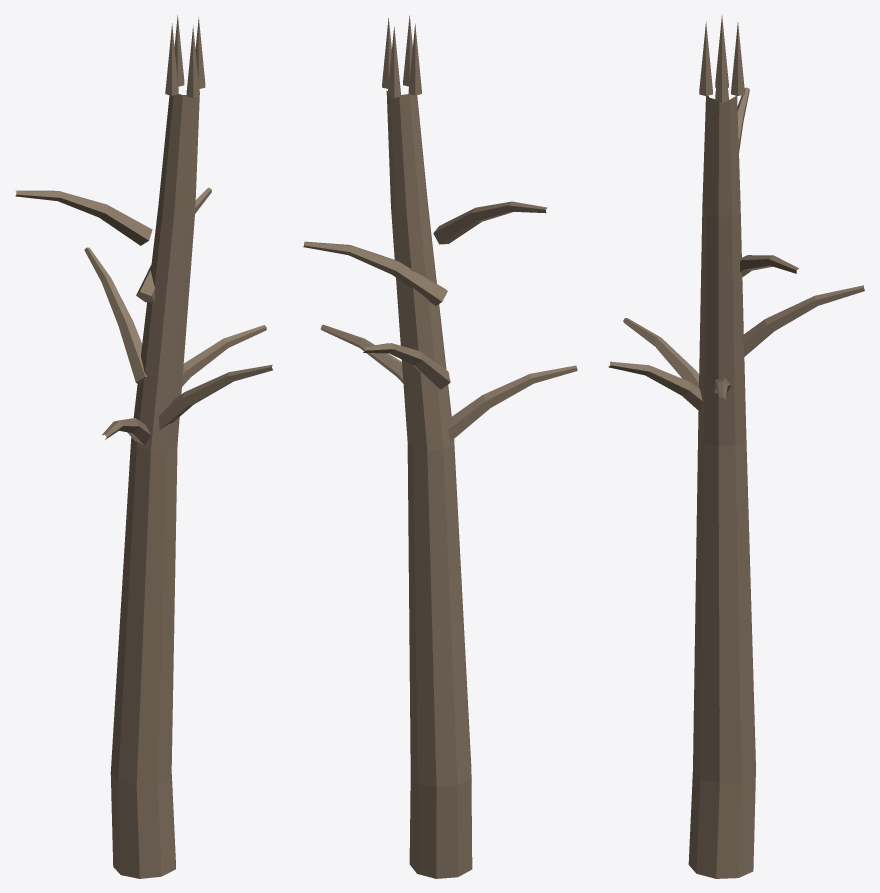
The model's file is dead_snag_tall.glb.
3 renders of one model, left to right at view 1: azimuth 30°, elevation 25°; view 2: azimuth 150°, elevation 25°; view 3: azimuth 270°, elevation 25°, orthographic. The views are drawn at different scales.
Parts seen in each view (by area): view 1: dead-snag-tall; view 2: dead-snag-tall; view 3: dead-snag-tall.
Boxes of the visible parts, x1,y1,x2,y2 form: dead-snag-tall: (15,15,272,878); dead-snag-tall: (303,15,577,878); dead-snag-tall: (608,15,864,878).
Size of the model in its own units: 1.79 by 6.01 by 1.63.
